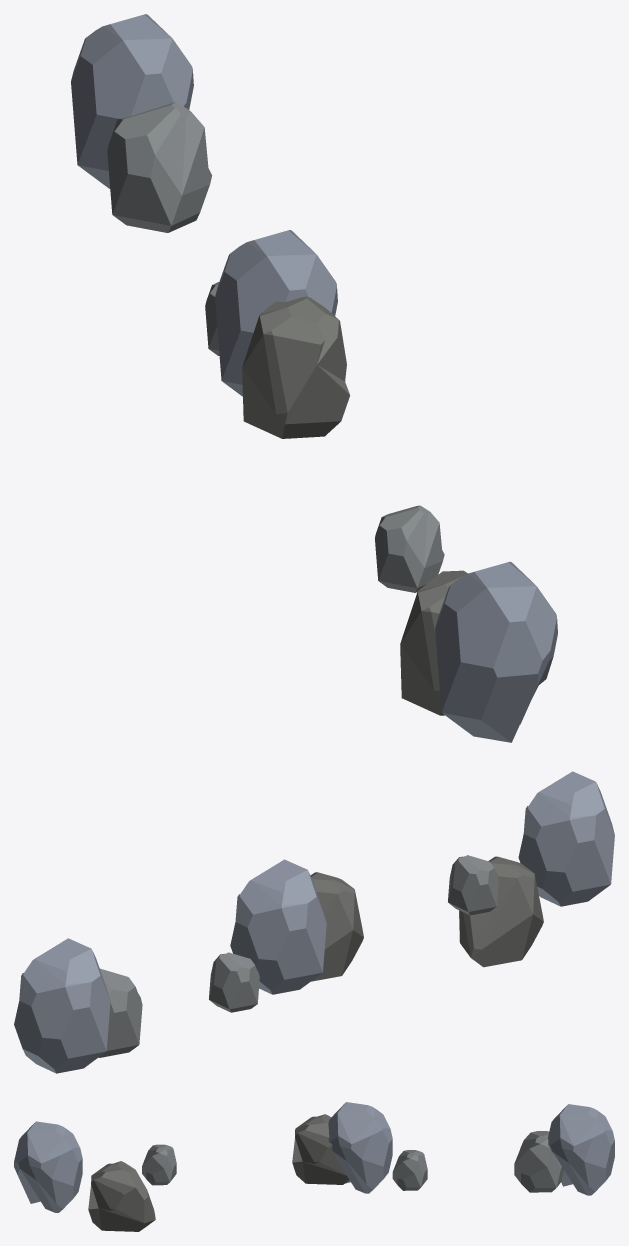
File: Batu jalan.fbx
3 views of the same model, one above another, from view 1: azimuth 30°, elevation 25°; view 2: azimuth 150°, elevation 25°; view 3: azimuth 270°, elevation 25° (orthographic). The views are drawn at different scales.
Parts seen in each view (by area): view 1: Icosphere.004, Icosphere, Icosphere.005, Icosphere.003, Icosphere.006; view 2: Icosphere, Icosphere.004, Icosphere.005, Icosphere.006, Icosphere.003; view 3: Icosphere, Icosphere.004, Icosphere.005, Icosphere.006, Icosphere.003.
Boxes of the visible parts, box(x1,y1,x2,y2) form: Icosphere.004: box(71, 14, 212, 232); Icosphere: box(205, 230, 350, 438); Icosphere.005: box(435, 561, 557, 742); Icosphere.003: box(375, 505, 444, 592); Icosphere.006: box(400, 570, 467, 715); Icosphere: box(209, 859, 363, 1012); Icosphere.004: box(14, 938, 142, 1073); Icosphere.005: box(518, 771, 614, 906); Icosphere.006: box(459, 856, 543, 967); Icosphere.003: box(448, 855, 498, 915); Icosphere: box(292, 1102, 427, 1193); Icosphere.004: box(514, 1104, 614, 1195); Icosphere.005: box(14, 1121, 82, 1212); Icosphere.006: box(88, 1161, 155, 1231); Icosphere.003: box(142, 1144, 176, 1185).
Bounding box in the file's own units: 403 × 421 × 1490.
